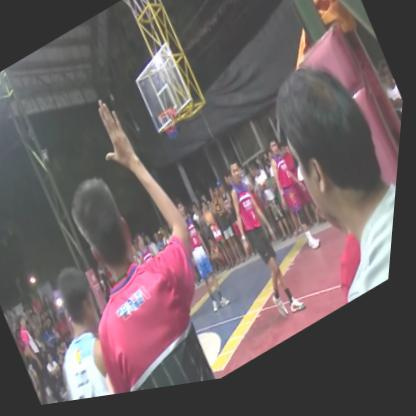rim: (154, 107, 194, 159)
